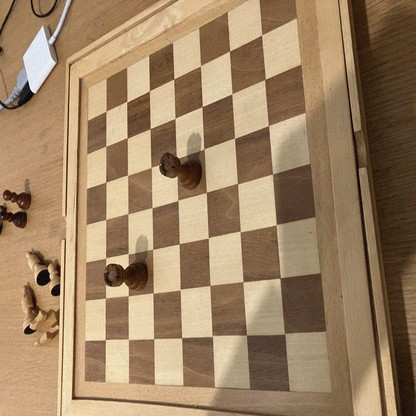bishop_white: (22, 285, 37, 334)
knight_white: (31, 310, 56, 331), (34, 332, 61, 346)
pawn_black: (3, 189, 30, 209), (1, 211, 26, 229)
pawn_white: (48, 262, 60, 296)
queen_white: (25, 251, 48, 286)
rock_black: (161, 154, 201, 190), (105, 262, 147, 290)
